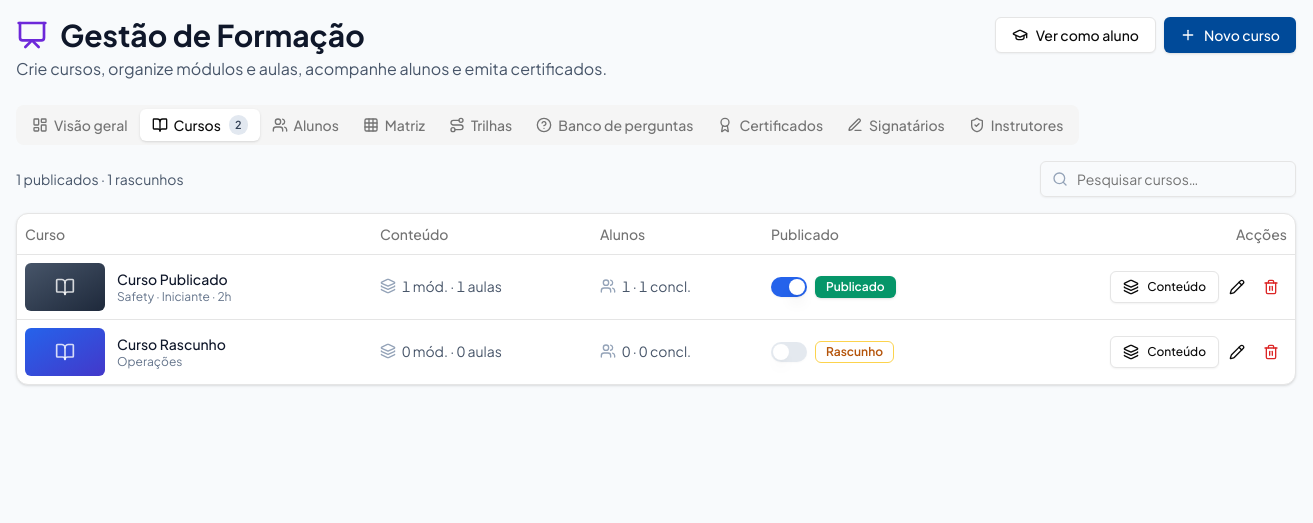
Test: Gestão de Formação › lista cursos (publicados e rascunhos) com estatísticas e abre o editor
Check: the heading "Gestão de Formação" is shown, box [16,16,365,54]
Check: the text "Curso Publicado" is shown, box [117,268,232,288]
Click the 1st button "Conteúdo" at x=1165, y=286, box [1110,270,1219,302]
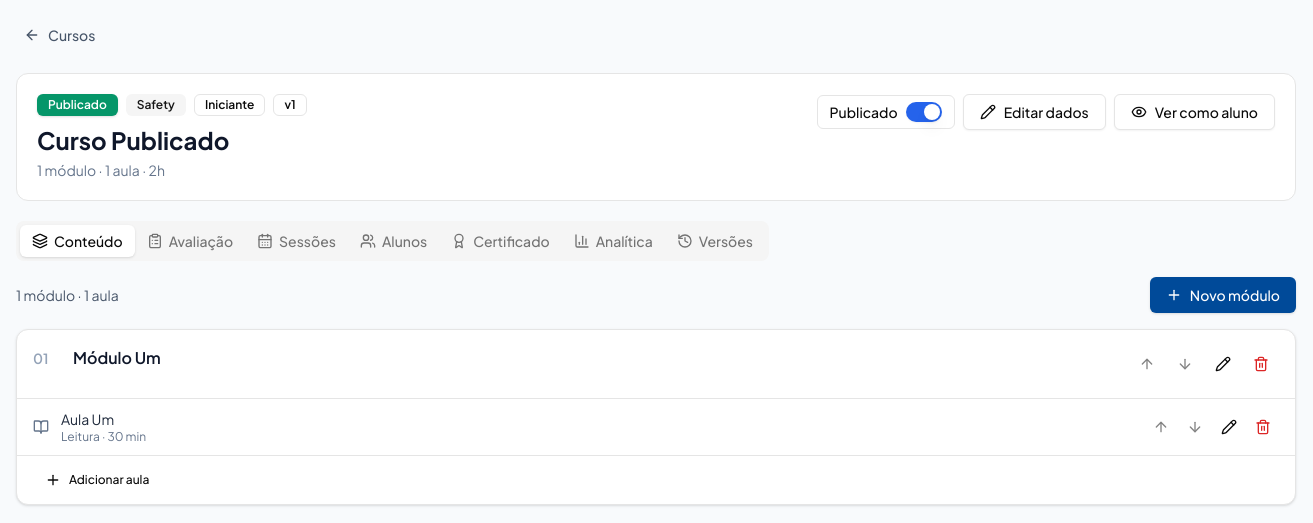
Check: the heading "Curso Publicado" is shown, box [37,125,229,155]
Check: the heading "Módulo Um" is shown, box [73,347,161,368]
Check: the text "Aula Um" is shown, box [61,410,114,428]
